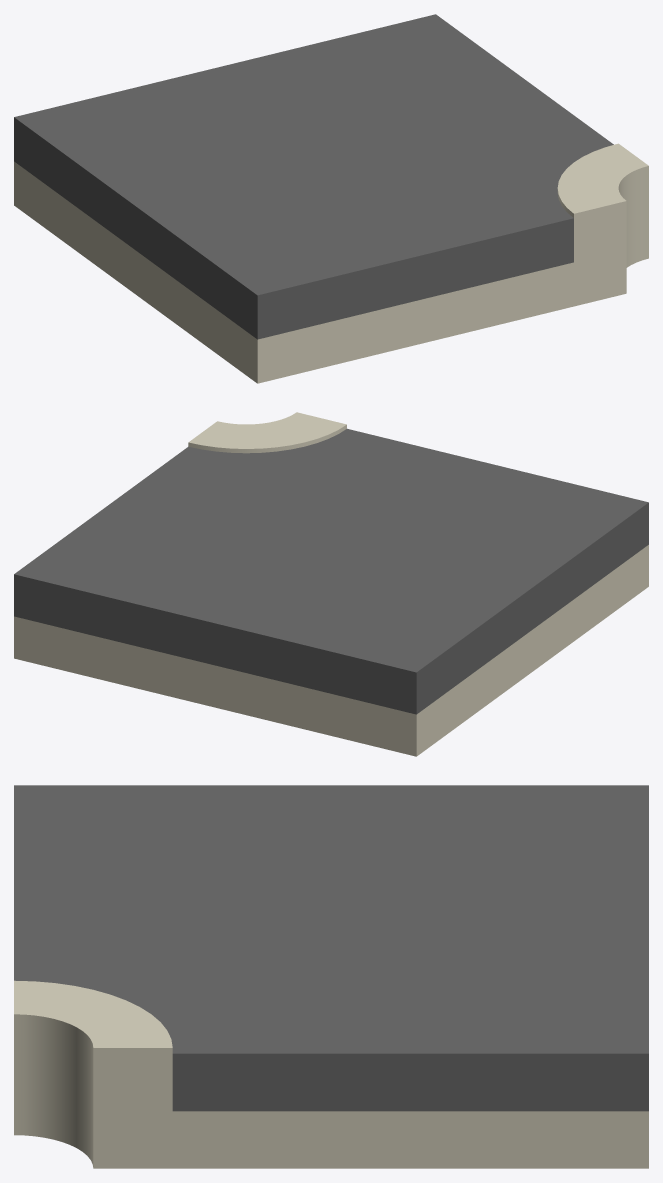
The model's file is tile199.fbx.
3 views of the same model, one above another, from view 1: azimuth 30°, elevation 25°; view 2: azimuth 150°, elevation 25°; view 3: azimuth 270°, elevation 25° (orthographic). The views are drawn at different scales.
Parts seen in each view (by area): view 1: tile199; view 2: tile199; view 3: tile199.
Boxes of the visible parts, x1=… form: tile199: x1=14, y1=14, x2=648, y2=383; tile199: x1=14, y1=412, x2=648, y2=756; tile199: x1=14, y1=785, x2=648, y2=1168.
Bounding box in the file's own units: 10 × 2.1 × 10.
